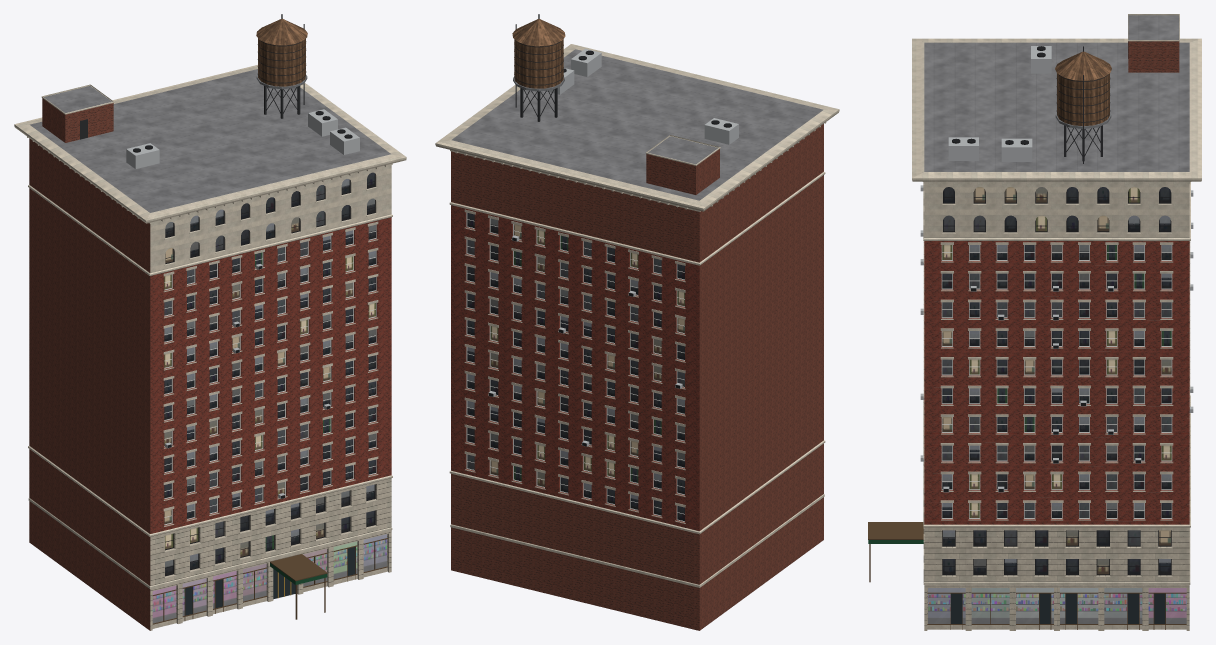
The model's file is hd01_ues_prewar_coop.gltf.
3 views of the same model, side by side, from view 1: azimuth 30°, elevation 25°; view 2: azimuth 150°, elevation 25°; view 3: azimuth 270°, elevation 25° (orthographic). The views are drawn at different scales.
Visible parts, largest first — view 1: hd01_ues_prewar_coop_LOD0; view 2: hd01_ues_prewar_coop_LOD0; view 3: hd01_ues_prewar_coop_LOD0.
Boxes of the visible parts, box(x1,y1,x2,y2) form: hd01_ues_prewar_coop_LOD0: box(14, 14, 406, 630); hd01_ues_prewar_coop_LOD0: box(435, 14, 839, 630); hd01_ues_prewar_coop_LOD0: box(868, 14, 1201, 630).
Size of what is drawn, in the model's own units: 32.4 by 61.05 by 32.72.
18 materials, 8 textured.
